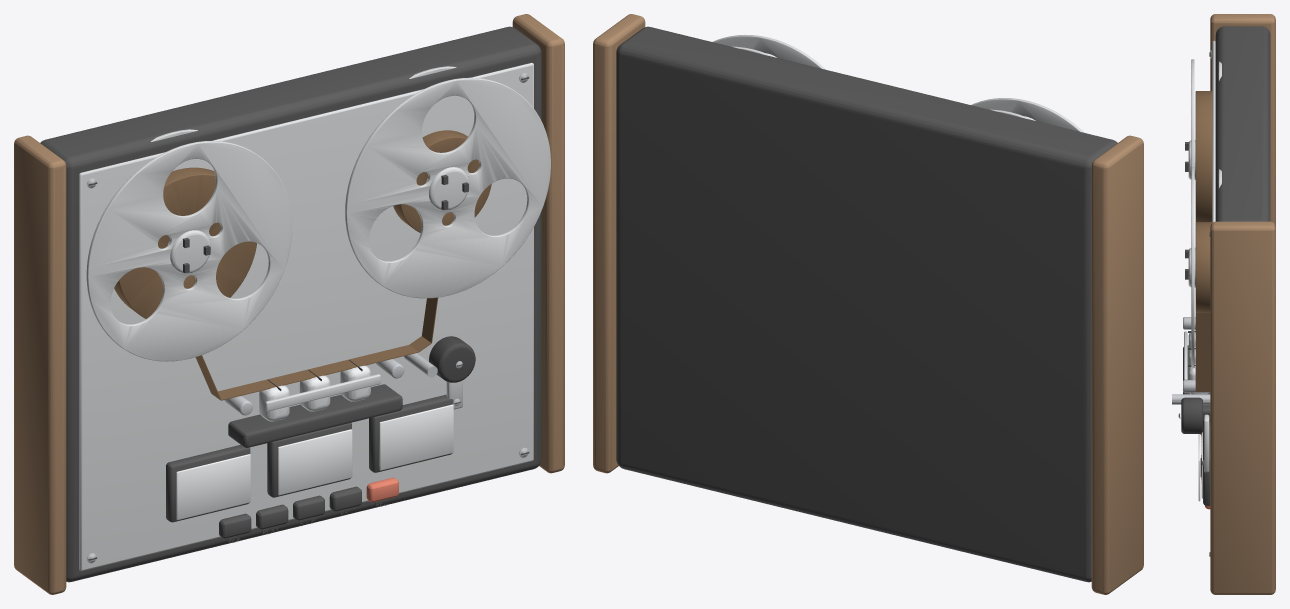
The model's file is tape-machine.glb.
The picture shows the model from 3 angles, left to right: view 1: azimuth 30°, elevation 25°; view 2: azimuth 150°, elevation 25°; view 3: azimuth 270°, elevation 25°; orthographic projection. The views are drawn at different scales.
Parts seen in each view (by area): view 1: deck, reels, meters, heads, capstan; view 2: deck, reels; view 3: deck, reels, capstan, heads, meters.
Part boxes in pixels (x1,y1,x2,y2): deck: (14, 14, 564, 594); reels: (86, 66, 550, 400); meters: (166, 394, 453, 522); heads: (224, 359, 404, 447); capstan: (404, 336, 475, 409); deck: (593, 14, 1143, 594); reels: (713, 34, 1084, 132); deck: (1205, 14, 1275, 594); reels: (1185, 59, 1221, 391); capstan: (1172, 394, 1210, 472); heads: (1183, 317, 1210, 421); meters: (1198, 422, 1210, 505).
Bounding box in the file's own units: 2.8 × 2.24 × 0.57.
